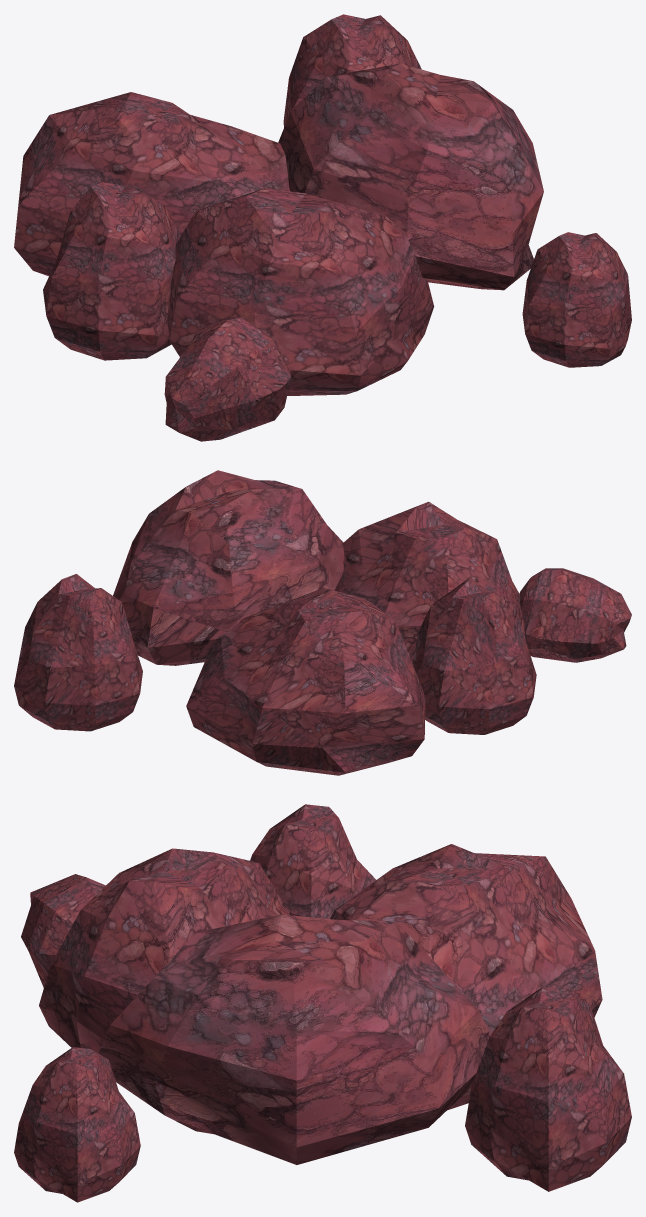
File: ROCK_SCATTER_1M_1M.fbx
3 views of the same model, one above another, from view 1: azimuth 30°, elevation 25°; view 2: azimuth 150°, elevation 25°; view 3: azimuth 270°, elevation 25° (orthographic). The views are drawn at different scales.
Parts seen in each view (by area): view 1: pSphere10; view 2: pSphere10; view 3: pSphere10.
Boxes of the visible parts, x1,y1,x2,y2 form: pSphere10: (14,14,631,441); pSphere10: (14,470,631,775); pSphere10: (14,804,631,1202).
Size of the model in its own units: 205 by 85.92 by 210.
